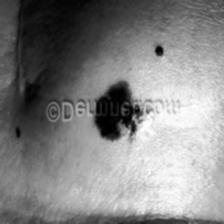Potentially Malignant Skin Tumors: (102, 84, 145, 100), (100, 118, 140, 134)
